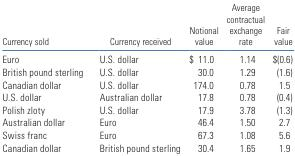table: (1, 1, 291, 153)
table column: (90, 1, 183, 153), (1, 1, 90, 153), (221, 1, 267, 153), (183, 1, 221, 153), (267, 1, 291, 153)
table column header: (1, 1, 291, 49)
table row: (1, 1, 291, 49), (1, 49, 291, 65), (1, 77, 291, 90), (1, 102, 291, 115), (1, 115, 291, 128), (1, 140, 291, 153), (1, 65, 291, 77), (1, 90, 291, 102), (1, 128, 291, 140)
